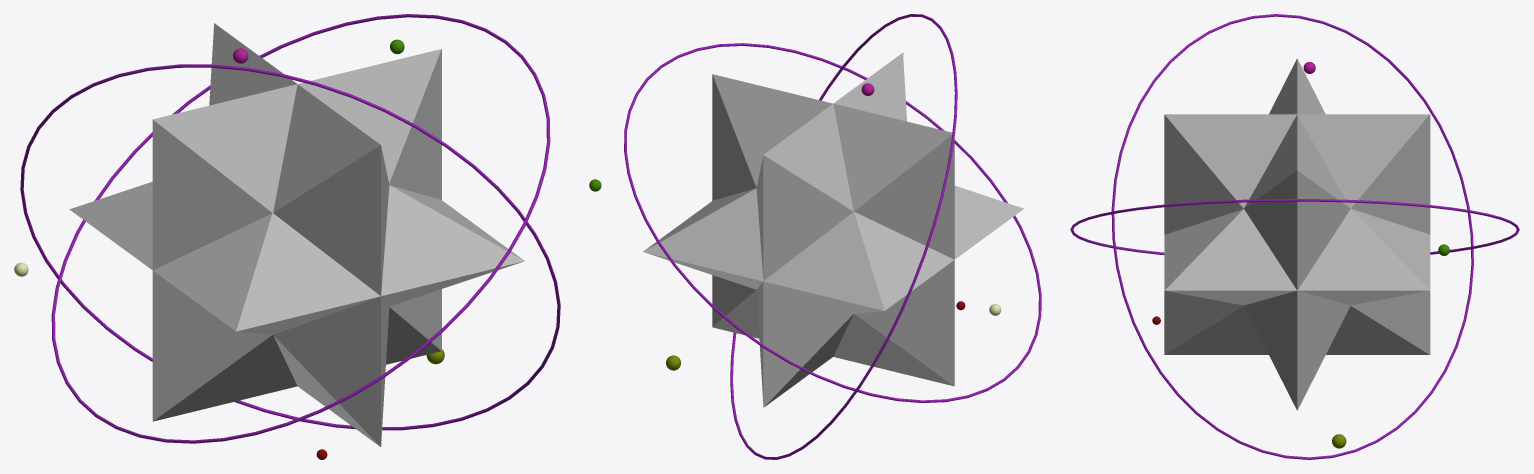
Rendered from ship.obj.
The picture shows the model from 3 angles, left to right: view 1: azimuth 30°, elevation 25°; view 2: azimuth 150°, elevation 25°; view 3: azimuth 270°, elevation 25°; orthographic projection. The views are drawn at different scales.
Parts seen in each view (by area): view 1: Pyramid004, Torus002, Torus003; view 2: Pyramid004, Torus002, Torus003; view 3: Pyramid004, Torus003, Torus002.
Part boxes in pixels (bbox=[...]): Pyramid004: bbox=[69, 23, 524, 446]; Torus002: bbox=[51, 14, 550, 443]; Torus003: bbox=[20, 64, 560, 430]; Pyramid004: bbox=[643, 52, 1023, 407]; Torus002: bbox=[624, 43, 1041, 402]; Torus003: bbox=[730, 14, 957, 459]; Pyramid004: bbox=[1164, 58, 1430, 410]; Torus003: bbox=[1111, 14, 1473, 459]; Torus002: bbox=[1070, 199, 1519, 254].
Bounding box in the file's own units: 203 × 198 × 221.
